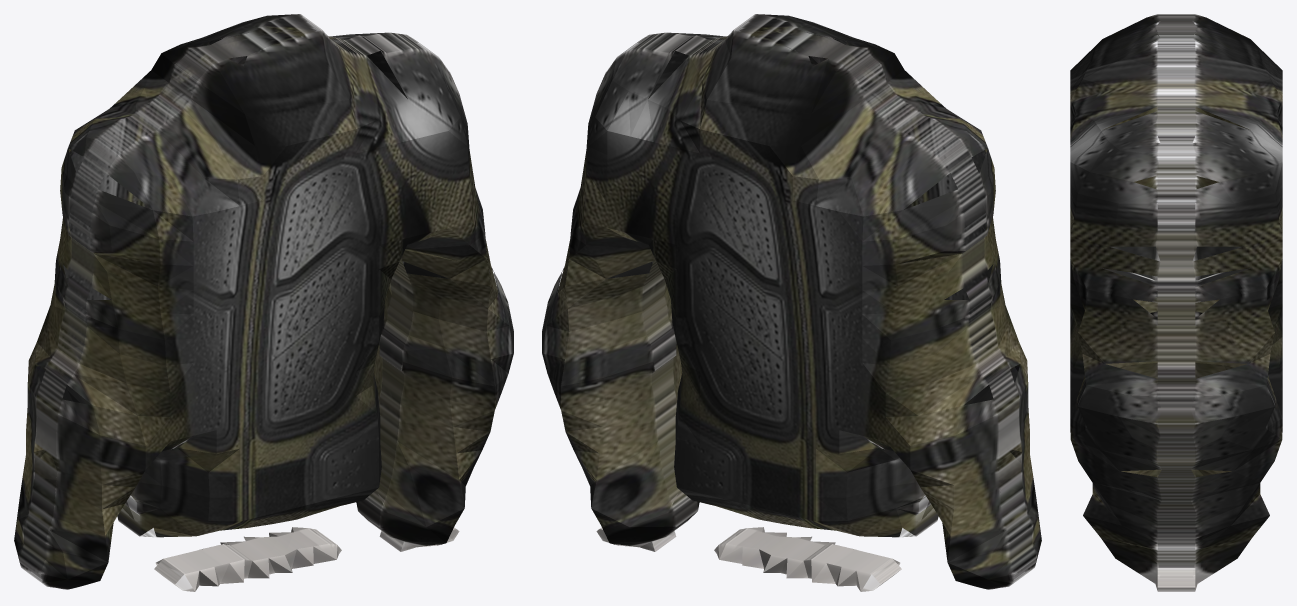
The model's file is forma-apex-body-armor-175.glb.
3 renders of one model, left to right at view 1: azimuth 30°, elevation 25°; view 2: azimuth 150°, elevation 25°; view 3: azimuth 270°, elevation 25°, orthographic. The views are drawn at different scales.
Visible parts, largest first — view 1: world; view 2: world; view 3: world.
Boxes of the visible parts, x1=… form: world: x1=14, y1=14, x2=513, y2=591; world: x1=542, y1=14, x2=1041, y2=591; world: x1=1070, y1=14, x2=1282, y2=591.
Size of the model in its own units: 0.8958 by 1 by 0.4.
Materials: 1 (1 with a texture image).
